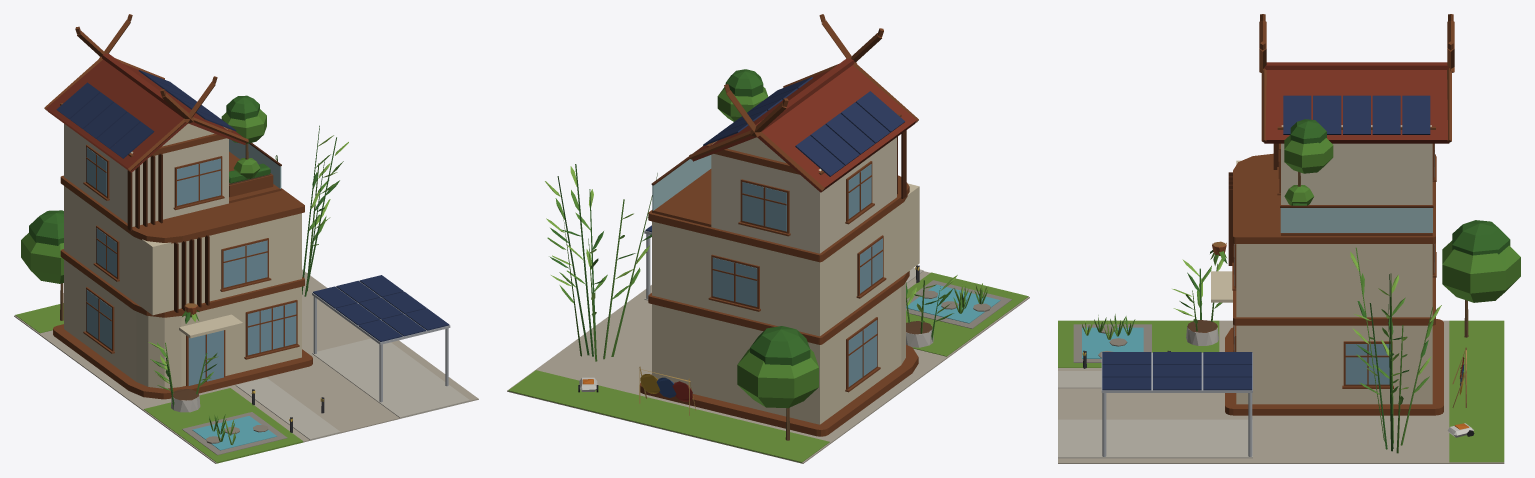
The model's file is house12_2.glb.
3 views of the same model, side by side, from view 1: azimuth 30°, elevation 25°; view 2: azimuth 150°, elevation 25°; view 3: azimuth 270°, elevation 25° (orthographic). The views are drawn at different scales.
Parts seen in each view (by area): view 1: body; view 2: body; view 3: body.
Boxes of the visible parts, bbox=[...] form: body: bbox=[14, 14, 478, 463]; body: bbox=[507, 14, 1029, 463]; body: bbox=[1058, 14, 1520, 463].
Bounding box in the file's own units: 12.87 × 12.96 × 16.5.
